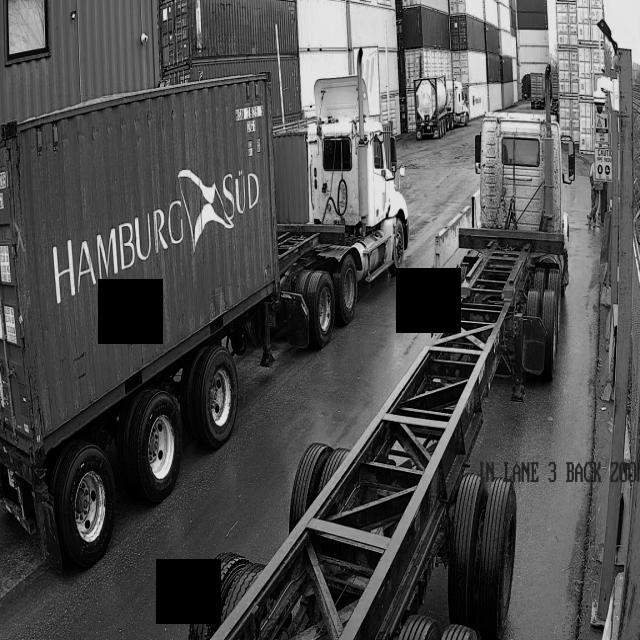container_company_logo: (41, 156, 263, 291)
truck_with_container: (0, 62, 409, 571)
truck_without_container: (207, 103, 576, 640)
